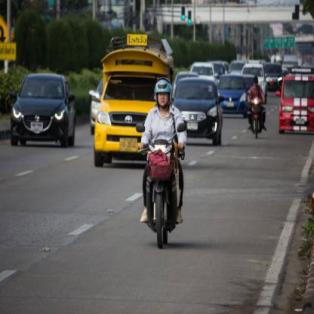Motocicleta: (139, 123, 182, 249)
